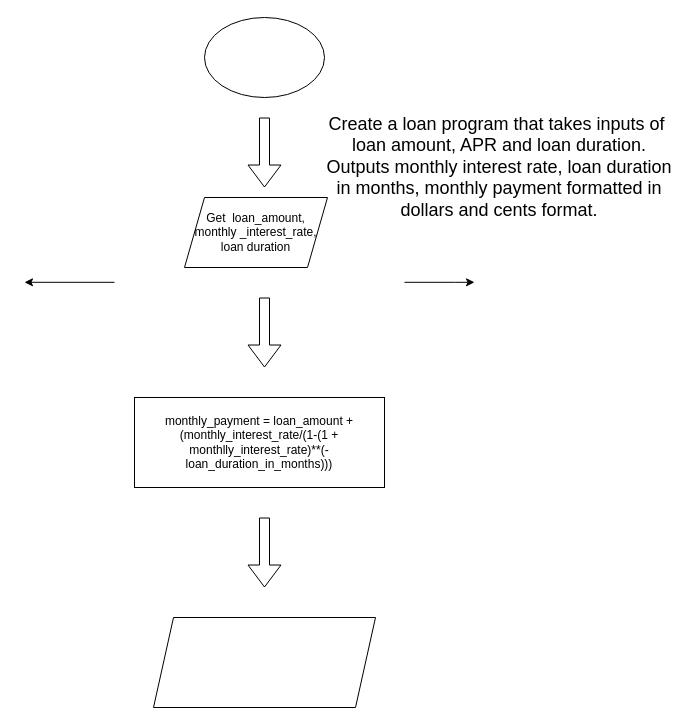
Some shapes in this 692 by 725 pixel diagram are drawn without their labels. The shapes that lost their labels are listed below. From the top down, each one's box as (x1, y1, x2, y2) in pixels, then its label:
(204, 16, 324, 98): Start
(152, 616, 376, 708): Output f string with monthly payment
